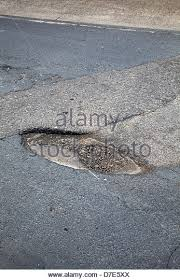pothole: (13, 118, 158, 196)
